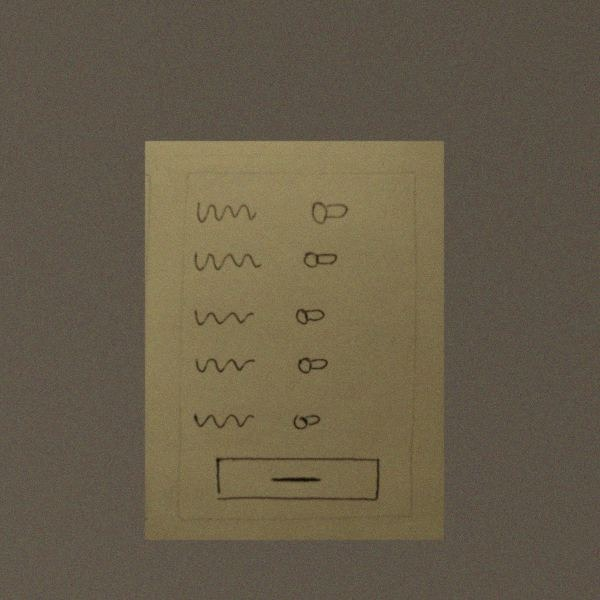button: (207, 452, 386, 506)
switch: (305, 193, 353, 228), (291, 347, 337, 383), (297, 245, 344, 276), (283, 408, 330, 432), (293, 303, 331, 331)
text: (186, 404, 258, 438), (193, 195, 257, 232), (188, 245, 262, 277), (190, 302, 256, 333), (187, 351, 257, 378)
